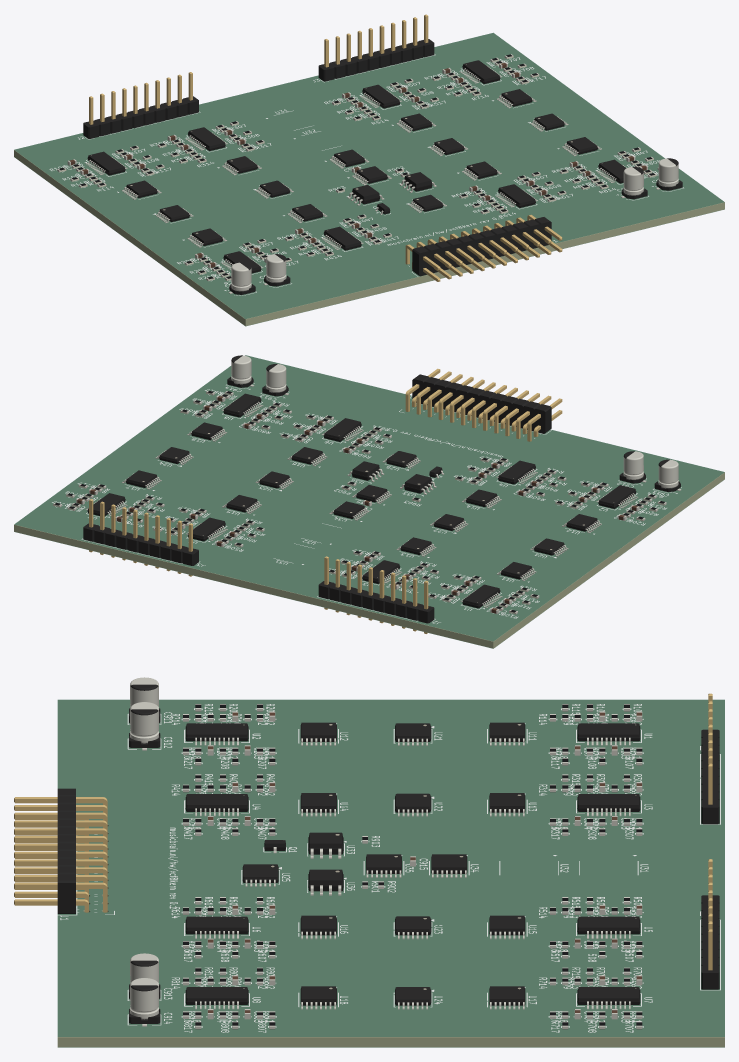
The model's file is musicbrain-vcf8kern.glb.
The picture shows the model from 3 angles, top to bottom: view 1: azimuth 30°, elevation 25°; view 2: azimuth 150°, elevation 25°; view 3: azimuth 270°, elevation 25°; orthographic projection. The views are drawn at different scales.
Visible parts, largest first — view 1: =>[0:1:1:24], =>[0:1:1:26], =>[0:1:1:5] (×2), =>[0:1:1:3], =>[0:1:1:22], =>[0:1:1:15] (×6), =>[0:1:1:21] (×4); view 2: =>[0:1:1:24], =>[0:1:1:26], =>[0:1:1:5] (×2), =>[0:1:1:3], =>[0:1:1:22], =>[0:1:1:15] (×8), =>[0:1:1:21] (×4), =>[0:1:1:25], =>[0:1:1:9]; view 3: =>[0:1:1:24], =>[0:1:1:26], =>[0:1:1:22], =>[0:1:1:15] (×8), =>[0:1:1:3], =>[0:1:1:7] (×10), =>[0:1:1:21] (×4), =>[0:1:1:5] (×2), =>[0:1:1:13] (×5), =>[0:1:1:9] (×2), =>[0:1:1:25].
Part boxes in pixels (x1,y1,x2,y2): =>[0:1:1:24]: (14, 32, 724, 318); =>[0:1:1:26]: (14, 33, 724, 326); =>[0:1:1:5] (×2): (83, 14, 434, 138); =>[0:1:1:3]: (405, 214, 562, 281); =>[0:1:1:22]: (49, 54, 683, 295); =>[0:1:1:15] (×6): (85, 60, 537, 250); =>[0:1:1:21] (×4): (228, 158, 682, 294); =>[0:1:1:24]: (14, 355, 724, 641); =>[0:1:1:26]: (14, 357, 724, 648); =>[0:1:1:5] (×2): (83, 499, 434, 633); =>[0:1:1:3]: (405, 368, 562, 441); =>[0:1:1:22]: (52, 382, 681, 623); =>[0:1:1:15] (×8): (85, 393, 638, 608); =>[0:1:1:21] (×4): (227, 355, 681, 491); =>[0:1:1:25]: (14, 479, 724, 648); =>[0:1:1:9]: (347, 461, 384, 482); =>[0:1:1:24]: (57, 699, 724, 1036); =>[0:1:1:26]: (57, 700, 724, 1047); =>[0:1:1:22]: (58, 704, 720, 1032); =>[0:1:1:15] (×8): (185, 723, 640, 1009); =>[0:1:1:3]: (14, 788, 107, 913); =>[0:1:1:7] (×10): (300, 722, 525, 1009); =>[0:1:1:21] (×4): (129, 677, 160, 1026); =>[0:1:1:5] (×2): (701, 693, 719, 989); =>[0:1:1:13] (×5): (242, 723, 431, 1009); =>[0:1:1:9] (×2): (308, 832, 343, 895); =>[0:1:1:25]: (58, 1047, 724, 1047).
Bounding box in the file's own units: 0.11 × 0.0115 × 0.098.
